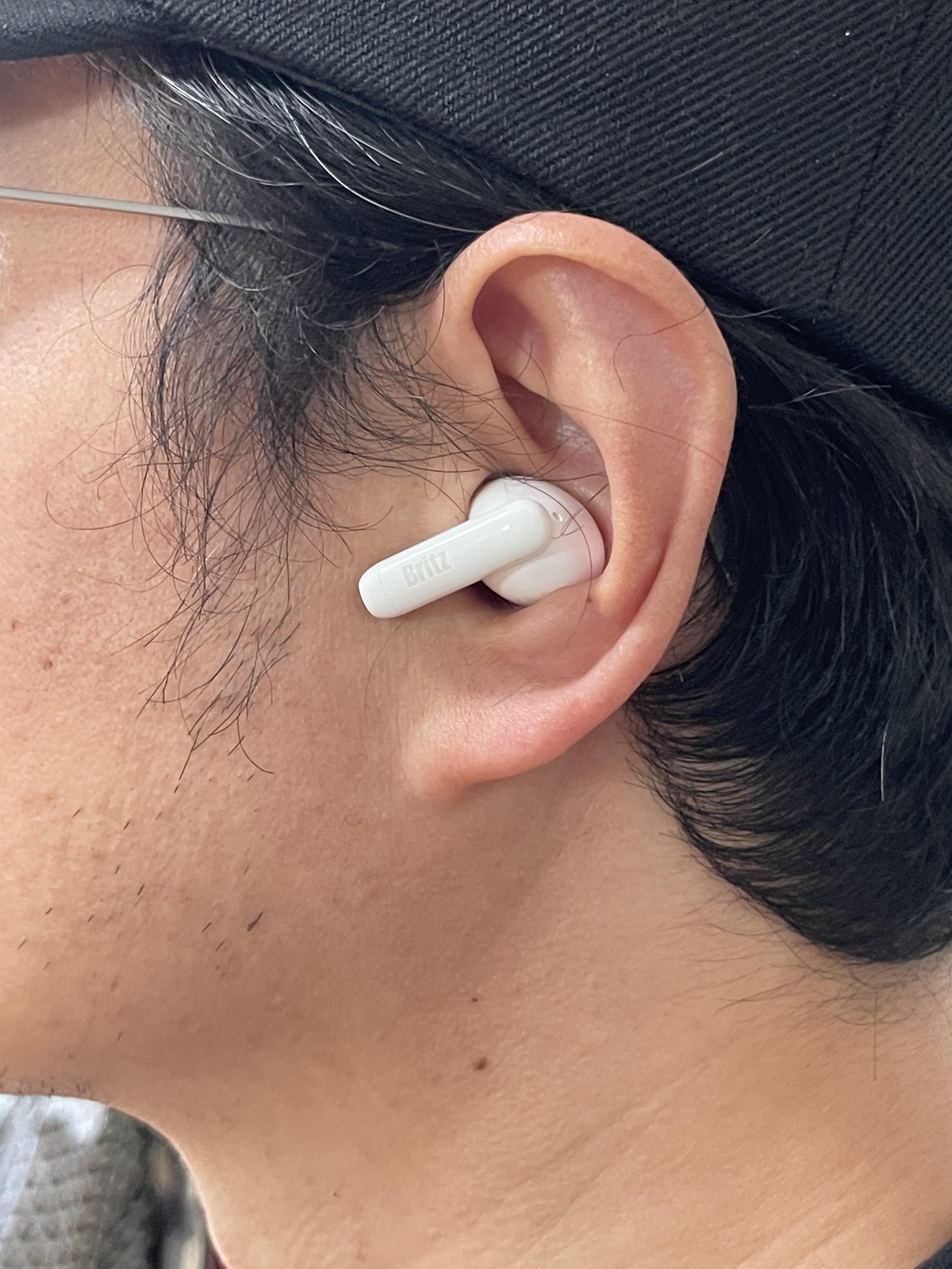earphone: (356, 455, 621, 636)
